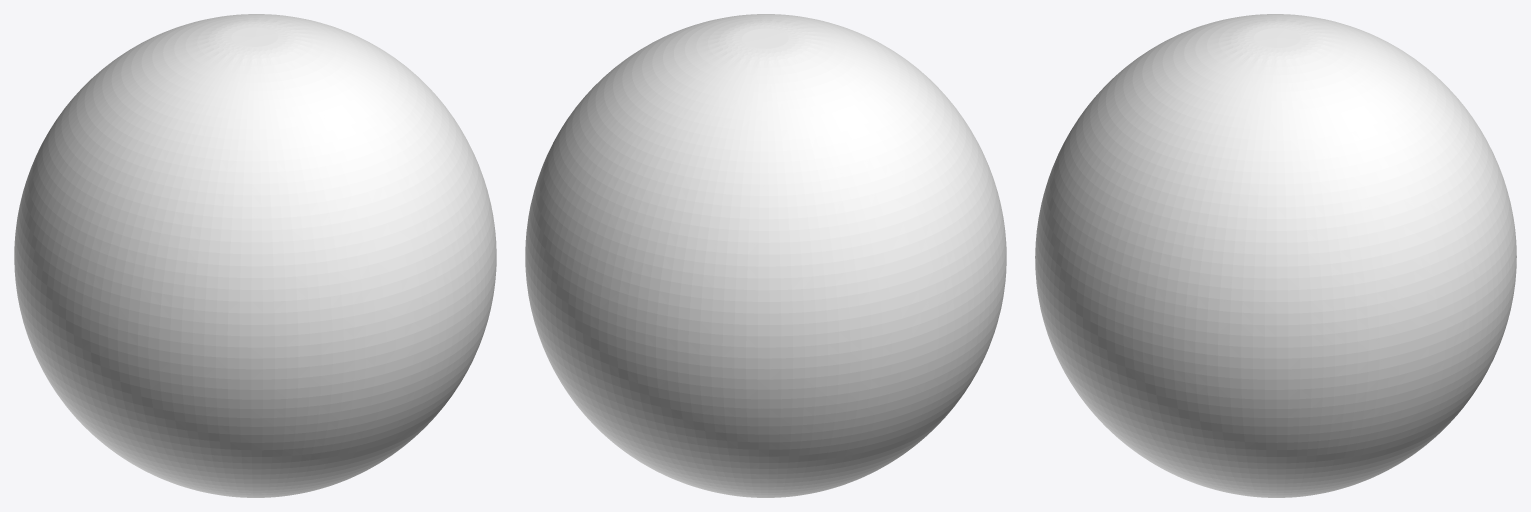
The model's file is orb.obj.
3 views of the same model, side by side, from view 1: azimuth 30°, elevation 25°; view 2: azimuth 150°, elevation 25°; view 3: azimuth 270°, elevation 25° (orthographic).
Parts seen in each view (by area): view 1: Sphere_Sphere.001; view 2: Sphere_Sphere.001; view 3: Sphere_Sphere.001.
Boxes of the visible parts, box(x1,y1,x2,y2) form: Sphere_Sphere.001: box(14, 14, 496, 497); Sphere_Sphere.001: box(525, 14, 1006, 497); Sphere_Sphere.001: box(1035, 14, 1516, 497).
Bounding box in the file's own units: 1.97 × 1.96 × 1.96.
Materials: 1 (1 with a texture image).
